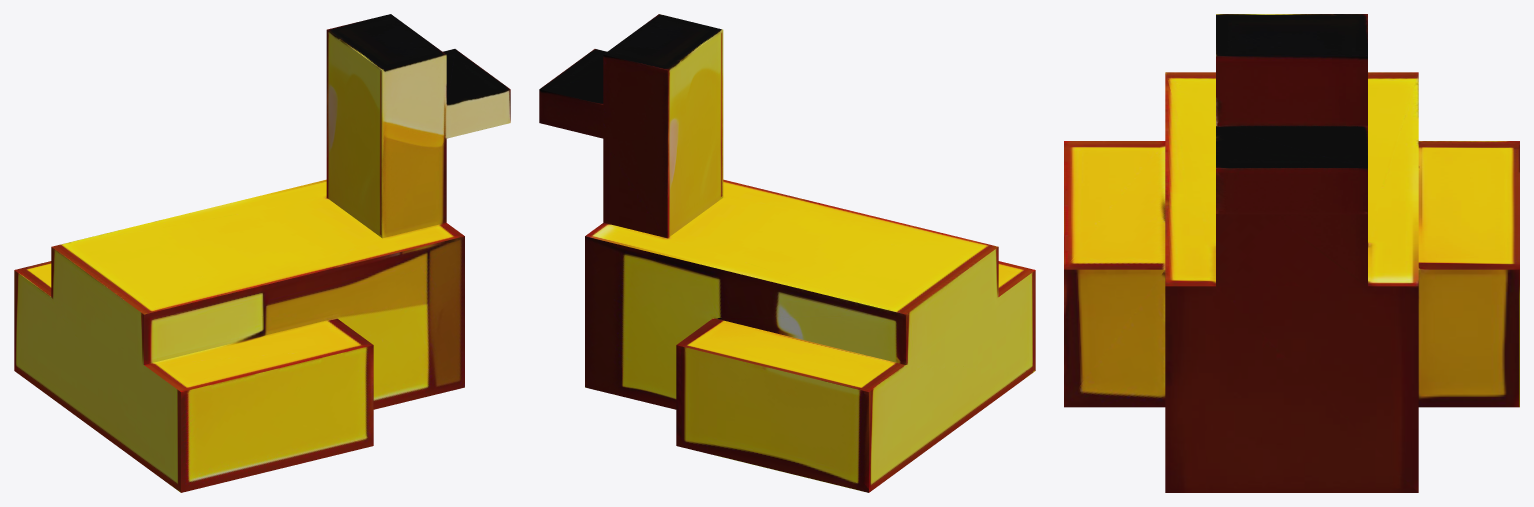
File: yellow_square.glb
3 renders of one model, left to right at view 1: azimuth 30°, elevation 25°; view 2: azimuth 150°, elevation 25°; view 3: azimuth 270°, elevation 25°, orthographic. The views are drawn at different scales.
Visible parts, largest first — view 1: mvadapter_node_i2tex_tri; view 2: mvadapter_node_i2tex_tri; view 3: mvadapter_node_i2tex_tri.
Part boxes in pixels (x1=…): mvadapter_node_i2tex_tri: x1=14, y1=14, x2=510, y2=492; mvadapter_node_i2tex_tri: x1=539, y1=14, x2=1035, y2=492; mvadapter_node_i2tex_tri: x1=1064, y1=14, x2=1519, y2=492.
Bounding box in the file's own units: 12 × 9.5 × 9.
Materials: 1 (1 with a texture image).
